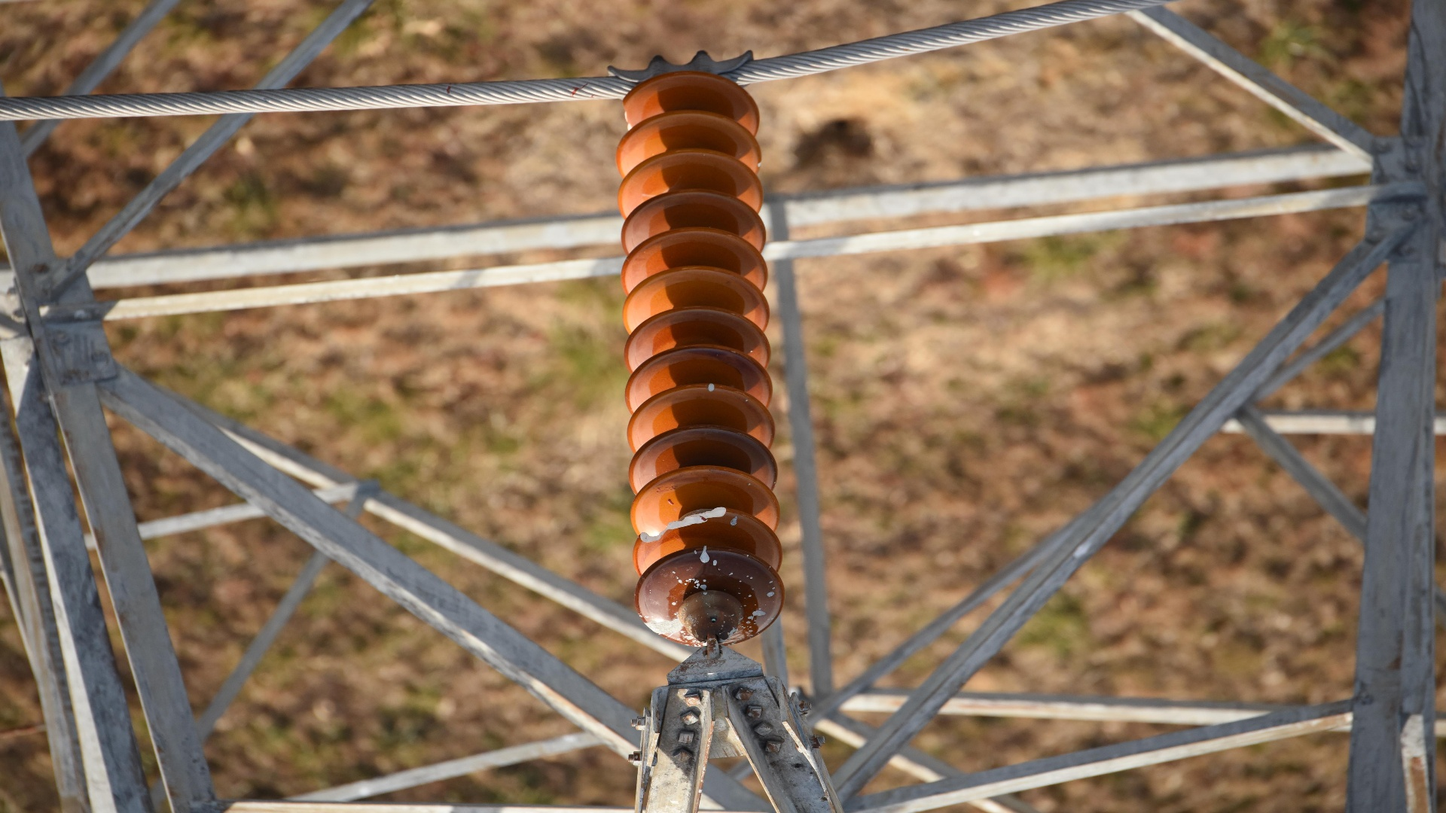insulator: (612, 66, 790, 650)
insulator_breakage: (635, 504, 732, 549)
